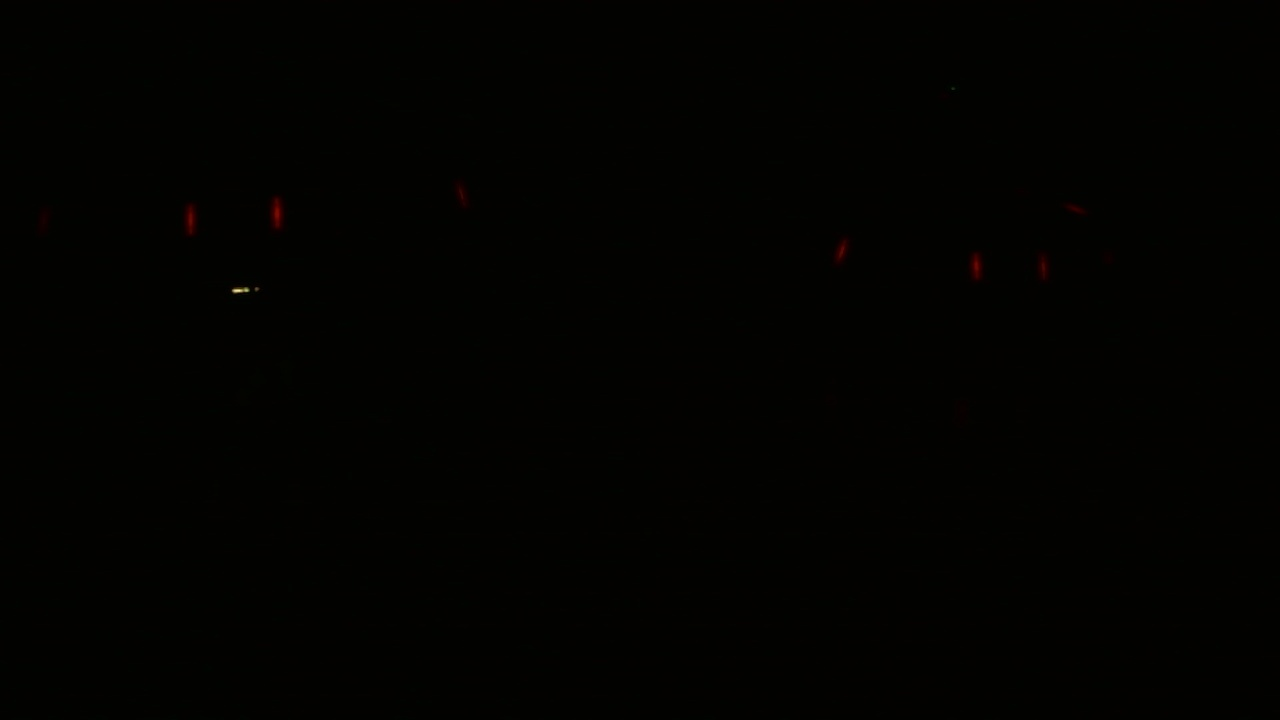pair1: (177, 196, 287, 238), (965, 252, 1052, 285)
